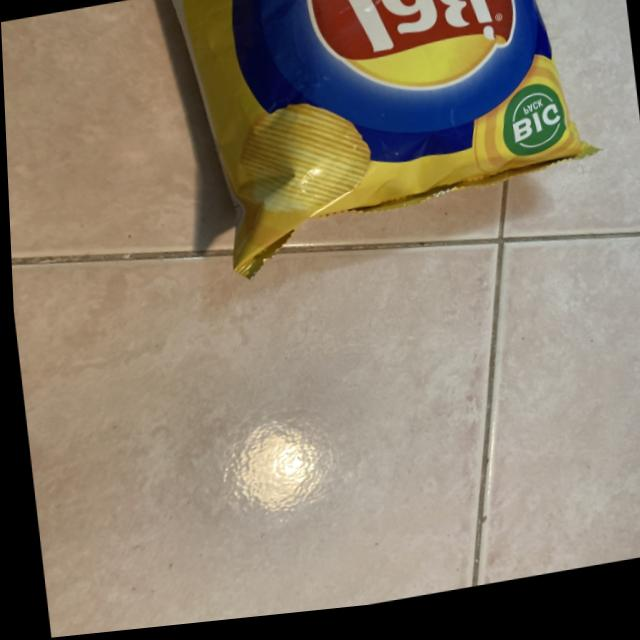LayYellow: (145, 0, 609, 284)
